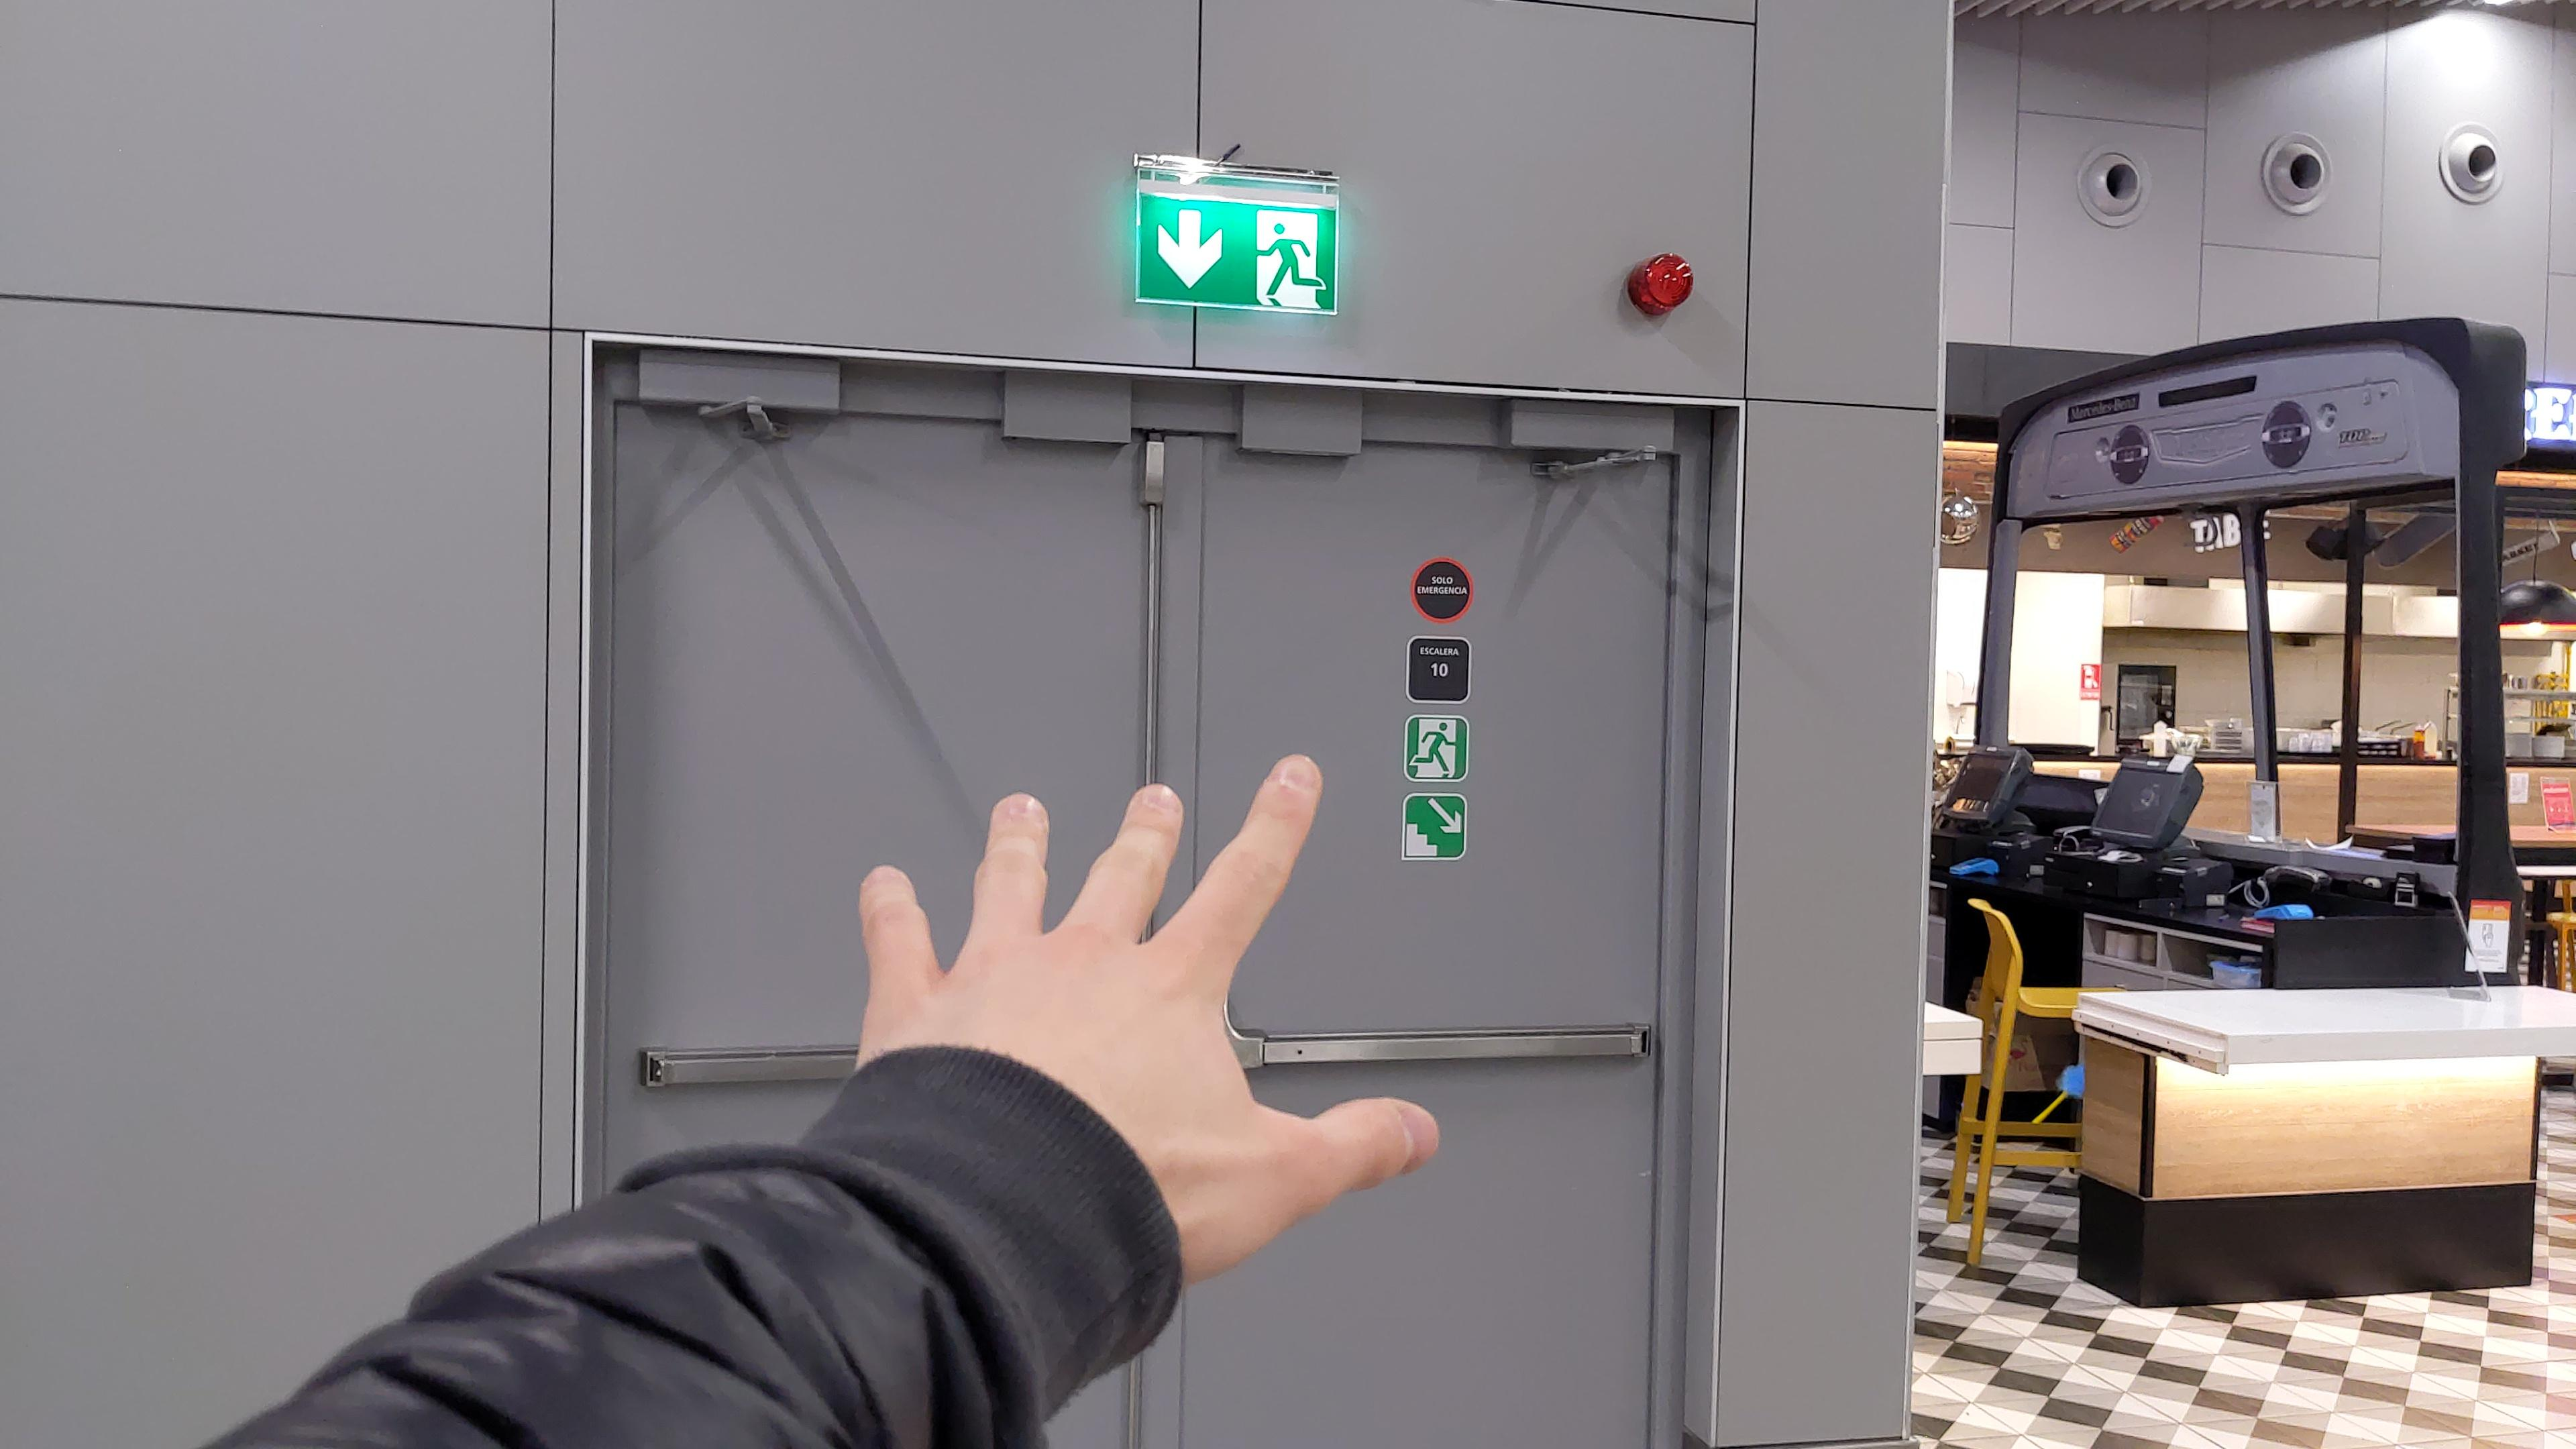emergency down arrow: (1155, 212, 1235, 292)
emergency exit: (1246, 214, 1330, 310), (1401, 720, 1465, 784)
